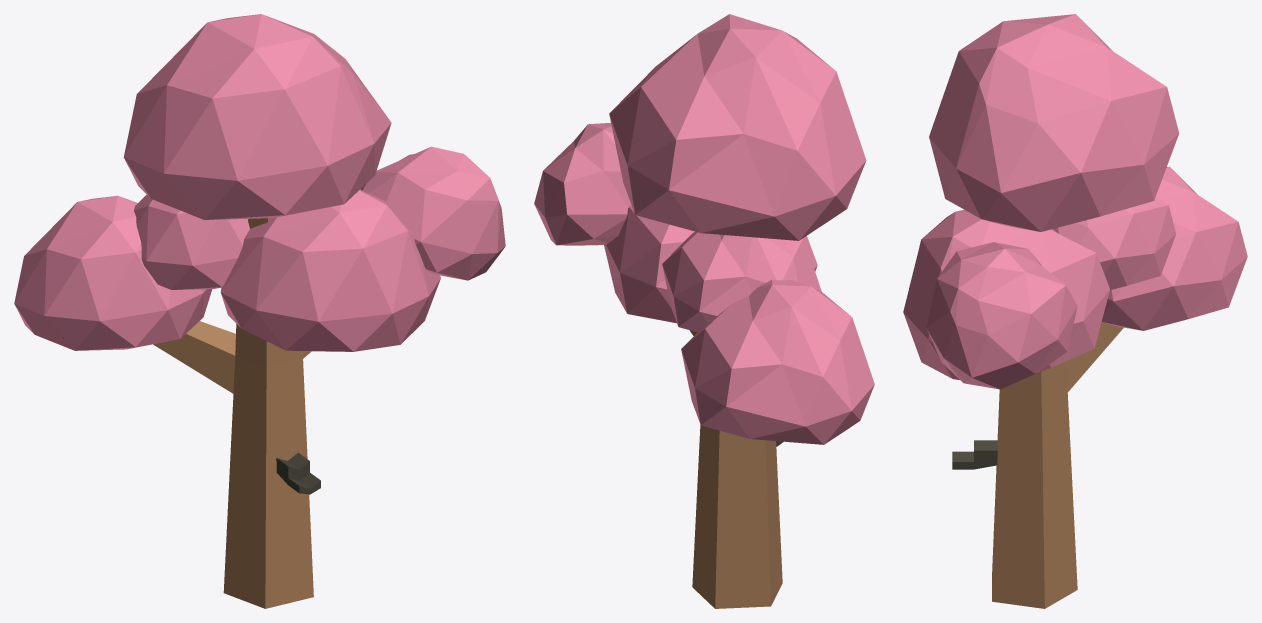
The model's file is Caramel Tree.fbx.
3 renders of one model, left to right at view 1: azimuth 30°, elevation 25°; view 2: azimuth 150°, elevation 25°; view 3: azimuth 270°, elevation 25°, orthographic.
Visible parts, largest first — view 1: Caramel Tree; view 2: Caramel Tree; view 3: Caramel Tree.
Boxes of the visible parts, x1,y1,x2,y2 form: Caramel Tree: (14,14,505,608); Caramel Tree: (534,14,874,608); Caramel Tree: (903,14,1247,608).
Bounding box in the file's own units: 433 × 596 × 329.
